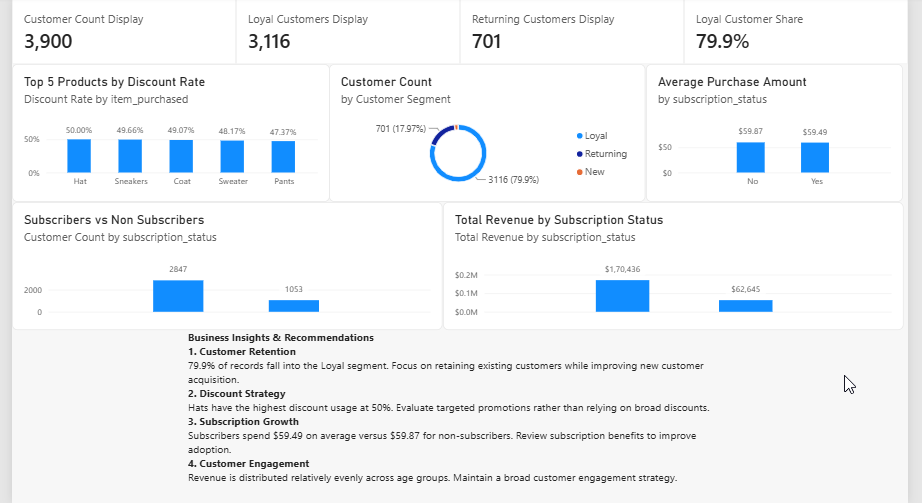

This screenshot's page, from the dashboard's own definition file:
{"tool":"powerbi","page":{"name":"Customer Insights","canvas":[1280,720],"ordinal":1},"visuals":[{"type":"donutChart","fields":{"Category":["public customer.Customer Segment"],"Y":["public customer.Customer Count"]},"box":[453.5,93.5,452.1,197],"z":0},{"type":"cardVisual","fields":{"Data":["public customer.Customer Count Display"]},"box":[0,0,320.3,93.5],"z":1000},{"type":"cardVisual","fields":{"Data":["public customer.Loyal Customers Display"]},"box":[320.3,0,320.3,93.5],"z":2000},{"type":"cardVisual","fields":{"Data":["public customer.Returning Customers Display"]},"box":[640.6,0,320.3,93.5],"z":3000},{"type":"cardVisual","fields":{"Data":["public customer.Loyal Customer Share"]},"box":[959.5,0,320.3,93.5],"z":4000},{"type":"clusteredColumnChart","title":"Top 5 Products by Discount Rate","fields":{"Category":["public customer.item_purchased"],"Y":["public customer.Discount Rate"]},"box":[0,93.5,453.5,197],"z":5000},{"type":"lineClusteredColumnComboChart","title":"Subscribers vs Non Subscribers","fields":{"Category":["public customer.subscription_status"],"Y":["public customer.Customer Count"]},"box":[0,290.6,615.1,182.8],"z":6000},{"type":"lineClusteredColumnComboChart","fields":{"Category":["public customer.subscription_status"],"Y":["public customer.Average Purchase Amount"]},"box":[905.7,93.5,367.1,197],"z":7000},{"type":"lineClusteredColumnComboChart","title":"Total Revenue by Subscription Status","fields":{"Category":["public customer.subscription_status"],"Y":["public customer.Total Revenue"]},"box":[615.1,290.6,657.6,182.8],"z":8000},{"type":"textbox","box":[250.9,473.4,790.9,226.8],"z":9000}]}

Visuals, with their boxes on the page's 1280x720 design canvas (x1, y1, x2, y2). These are canvas units, not pixel positions in the 922x503 screenshot, which may show the page scaled, cropped or inside an application window:
donutChart - public customer.Customer Segment x public customer.Customer Count: 454,94,906,290
cardVisual - public customer.Customer Count Display: 0,0,320,94
cardVisual - public customer.Loyal Customers Display: 320,0,641,94
cardVisual - public customer.Returning Customers Display: 641,0,961,94
cardVisual - public customer.Loyal Customer Share: 960,0,1280,94
"Top 5 Products by Discount Rate" clusteredColumnChart: 0,94,454,290
"Subscribers vs Non Subscribers" lineClusteredColumnComboChart: 0,291,615,473
lineClusteredColumnComboChart - public customer.subscription_status x public customer.Average Purchase Amount: 906,94,1273,290
"Total Revenue by Subscription Status" lineClusteredColumnComboChart: 615,291,1273,473
textbox: 251,473,1042,700
